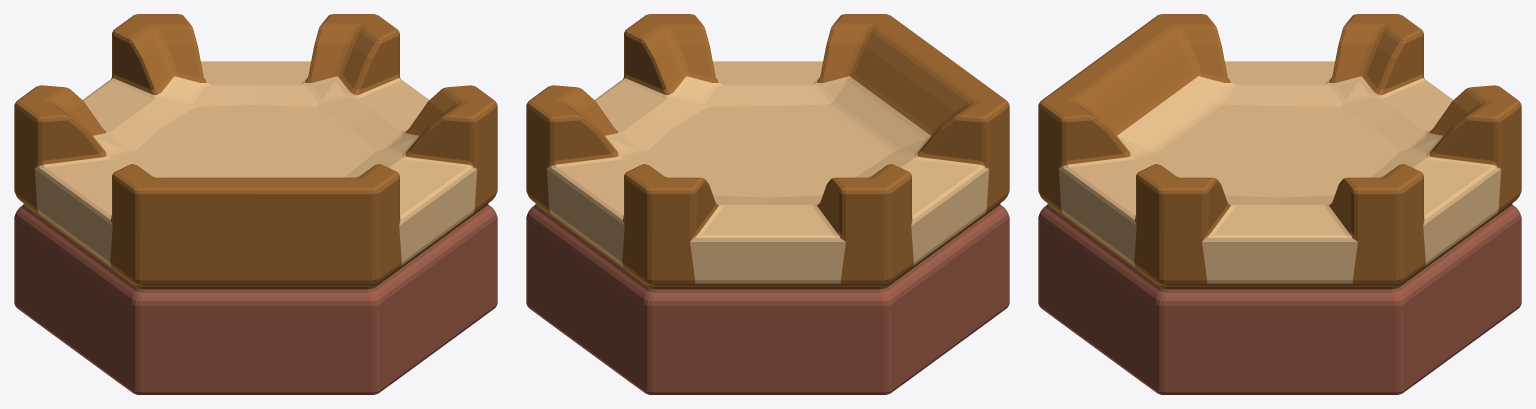
Rendered from my_road_12345.fbx.
The picture shows the model from 3 angles, left to right: view 1: azimuth 30°, elevation 25°; view 2: azimuth 150°, elevation 25°; view 3: azimuth 270°, elevation 25°; orthographic projection.
Parts seen in each view (by area): view 1: Circle.011; view 2: Circle.011; view 3: Circle.011.
Boxes of the visible parts, left/top/right/bottom form: Circle.011: left=14, top=14, right=497, bottom=394; Circle.011: left=526, top=14, right=1009, bottom=394; Circle.011: left=1038, top=14, right=1521, bottom=394.
Size of the model in its own units: 200 by 109 by 230.
